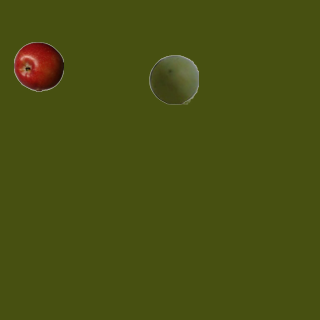Apple Braeburn: (13, 41, 63, 91)
Grape White 4: (148, 54, 198, 104)
